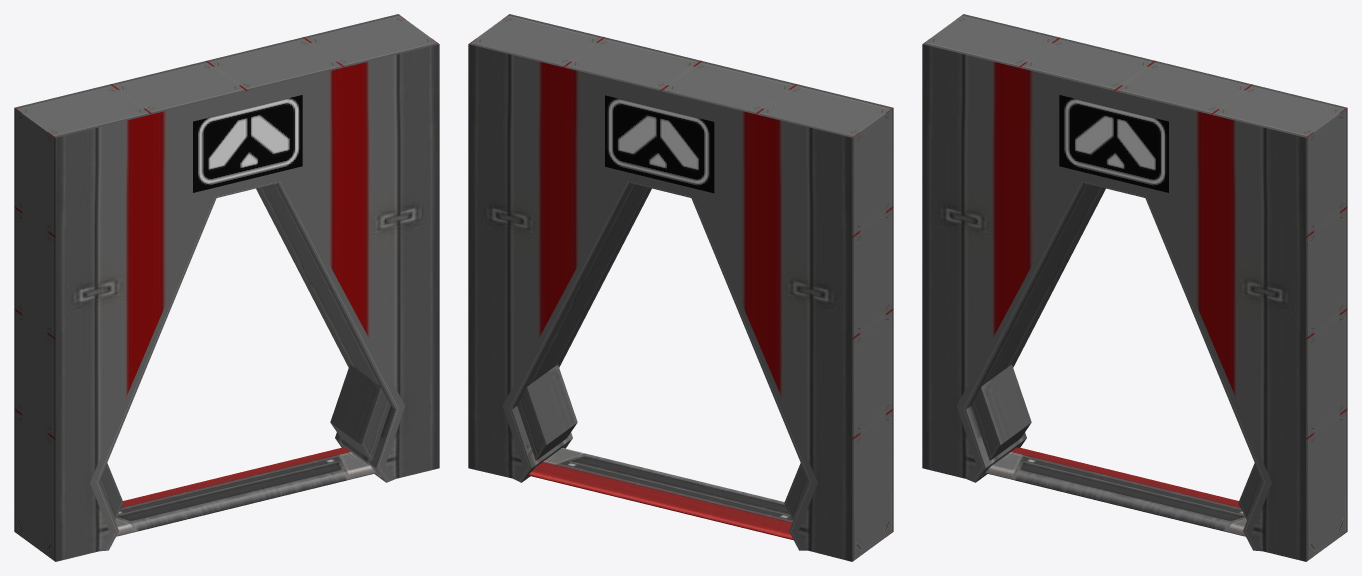
The model's file is sf_doorway_a.glb.
The picture shows the model from 3 angles, left to right: view 1: azimuth 30°, elevation 25°; view 2: azimuth 150°, elevation 25°; view 3: azimuth 330°, elevation 25°; orthographic projection.
Visible parts, largest first — view 1: Door_Frame_A; view 2: Door_Frame_A; view 3: Door_Frame_A.
Boxes of the visible parts, x1,y1,x2,y2 form: Door_Frame_A: (14, 14, 439, 561); Door_Frame_A: (468, 14, 893, 561); Door_Frame_A: (922, 14, 1347, 561).
Bounding box in the file's own units: 4.87 × 5.16 × 0.9274.
Materials: 3 (3 with a texture image).
